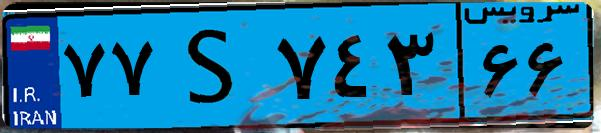3: (385, 28, 445, 110)
4: (330, 28, 385, 110)
6: (475, 38, 525, 113), (525, 38, 570, 115)
7: (270, 28, 330, 110), (57, 26, 110, 100), (110, 28, 158, 98)
S: (158, 12, 270, 120)
